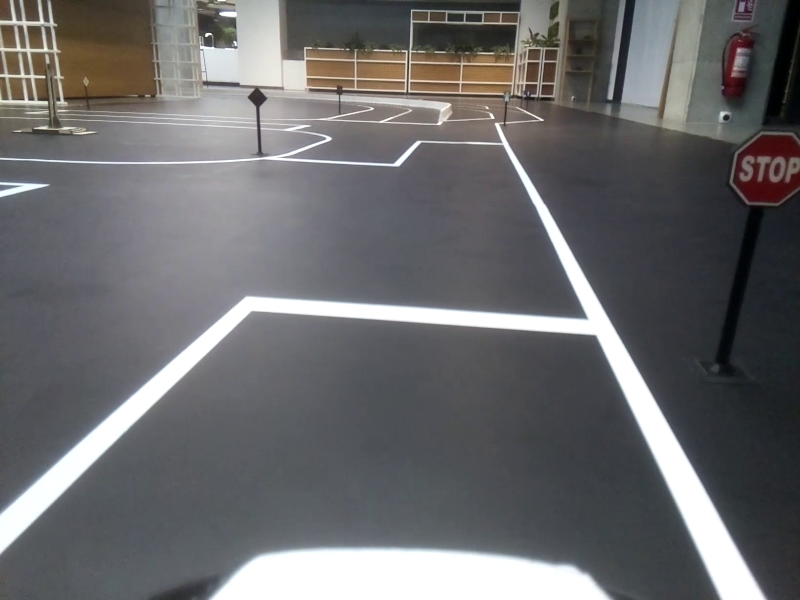stop: (726, 131, 800, 212)
